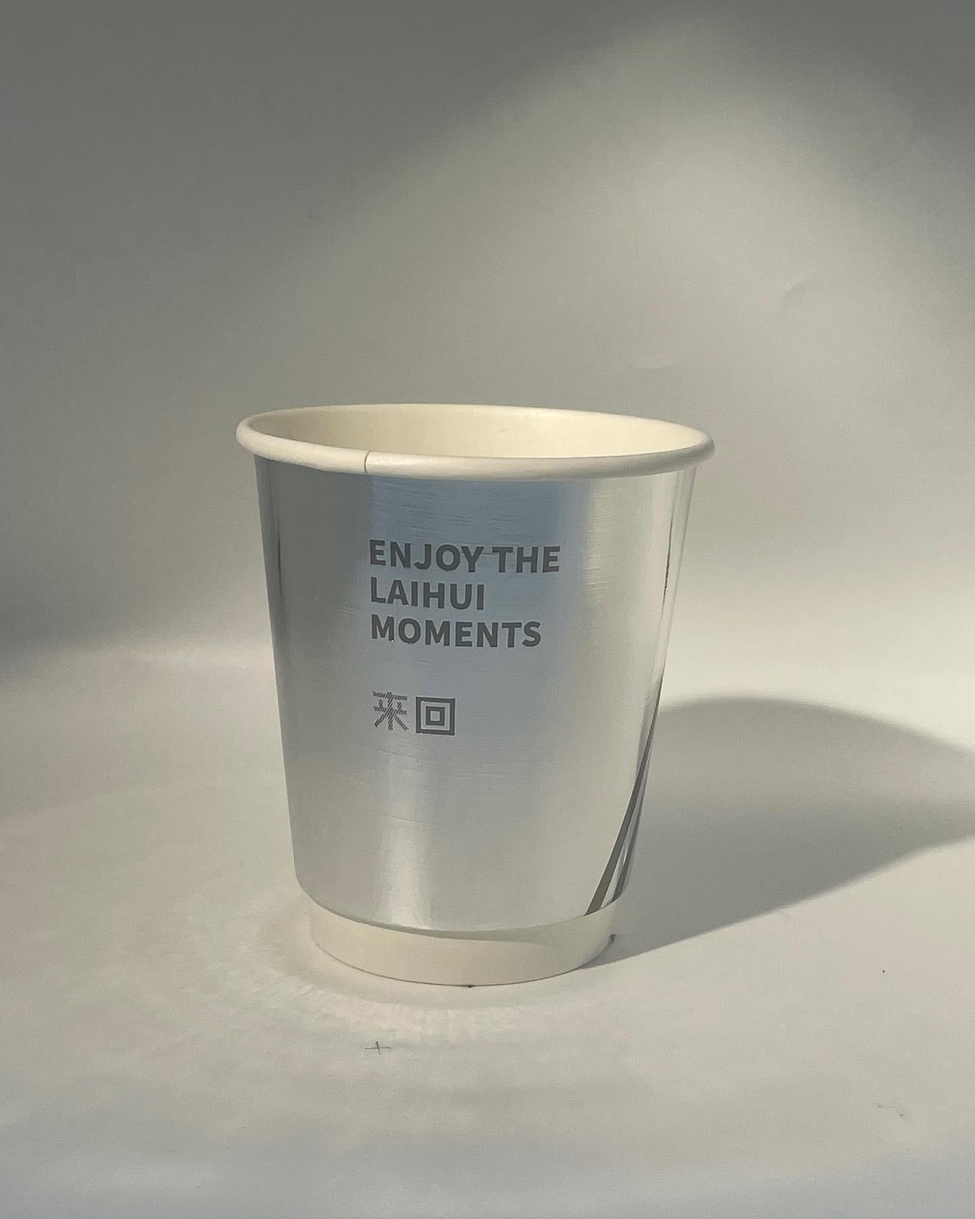cup-disposable: (236, 373, 721, 981)
